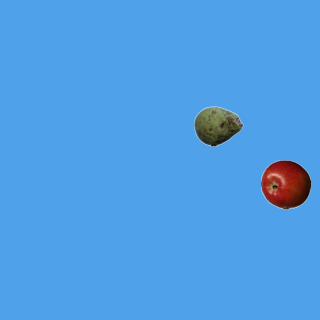Apple Braeburn: (260, 159, 310, 209)
Pear Stone: (193, 101, 243, 151)
